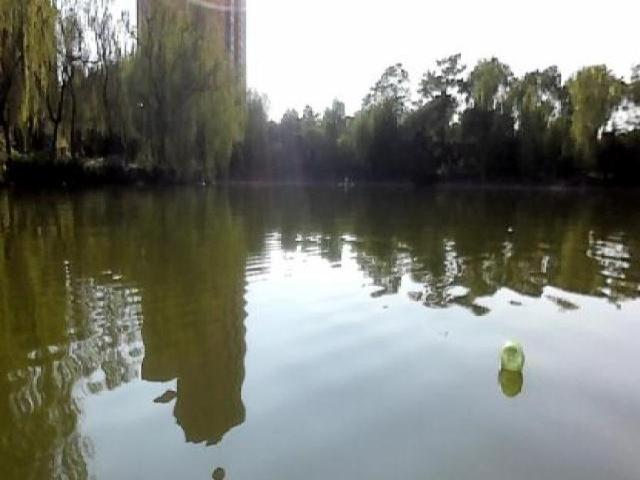Bottle: (493, 337, 532, 382)
